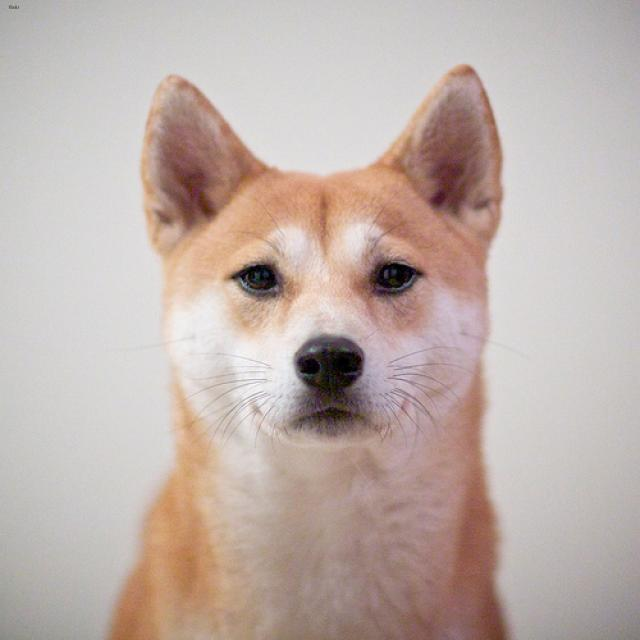dog-shiba_inu: (96, 55, 517, 637)
